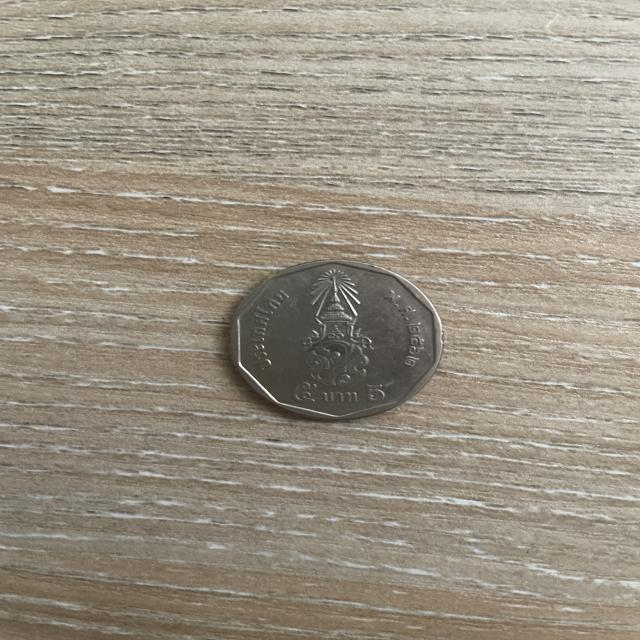5 Bath: (219, 252, 456, 427)
